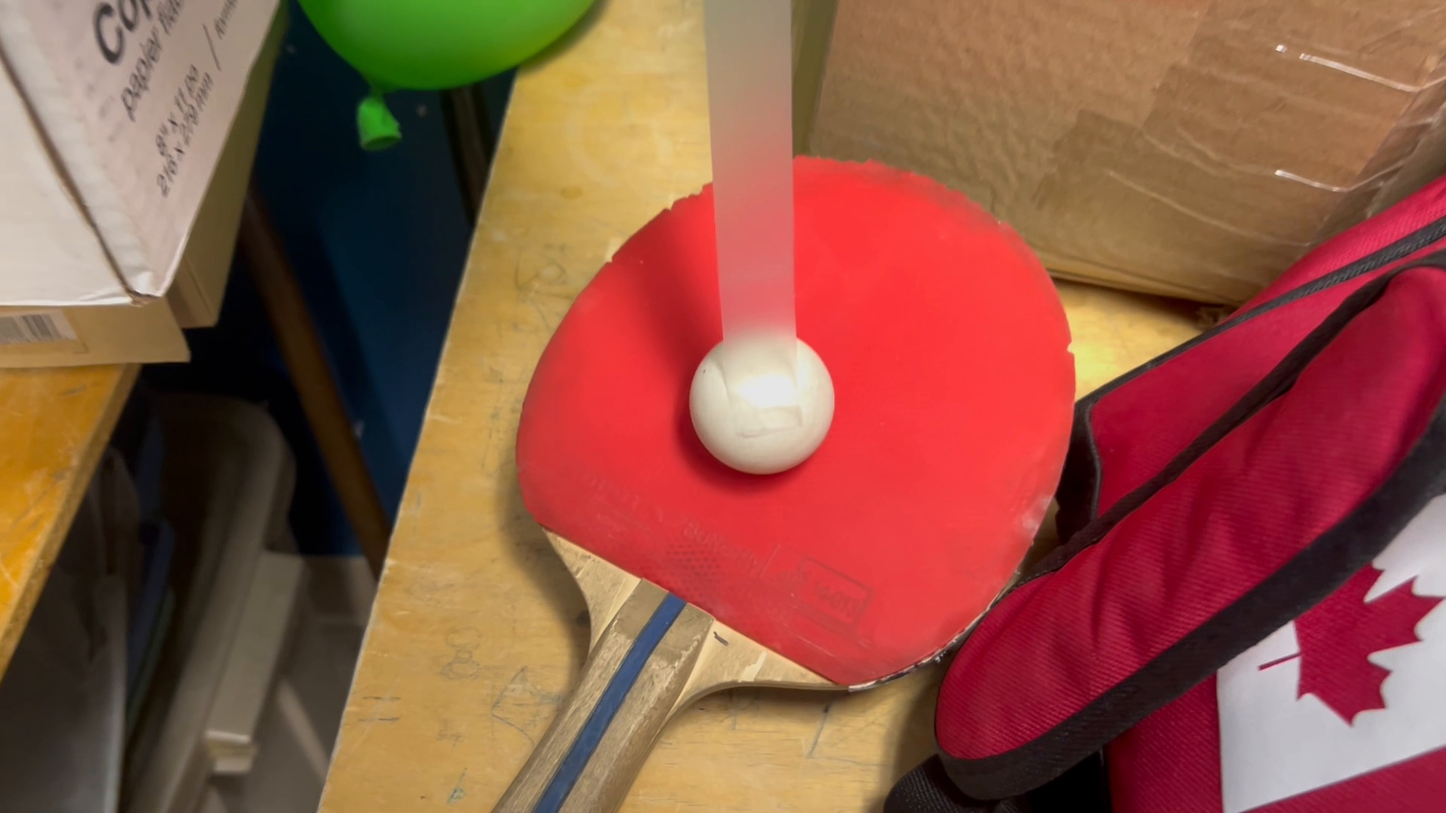Ball: (675, 337, 839, 465)
